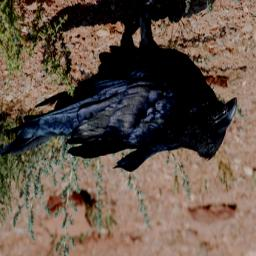Crow: (0, 0, 239, 174)
